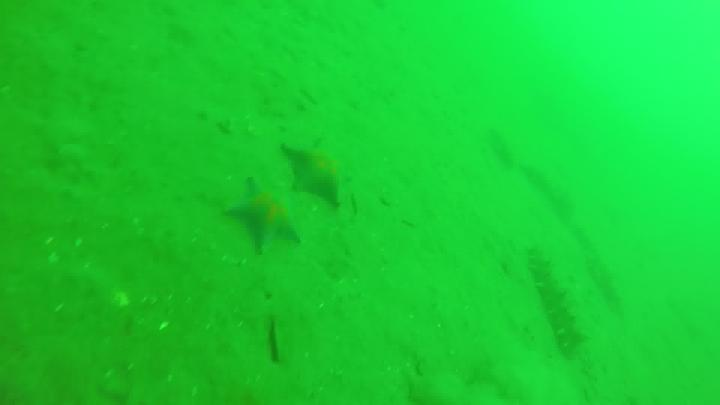holothurian: (523, 173, 628, 318), (531, 249, 591, 354)
starfish: (225, 178, 303, 252), (280, 139, 354, 208)
